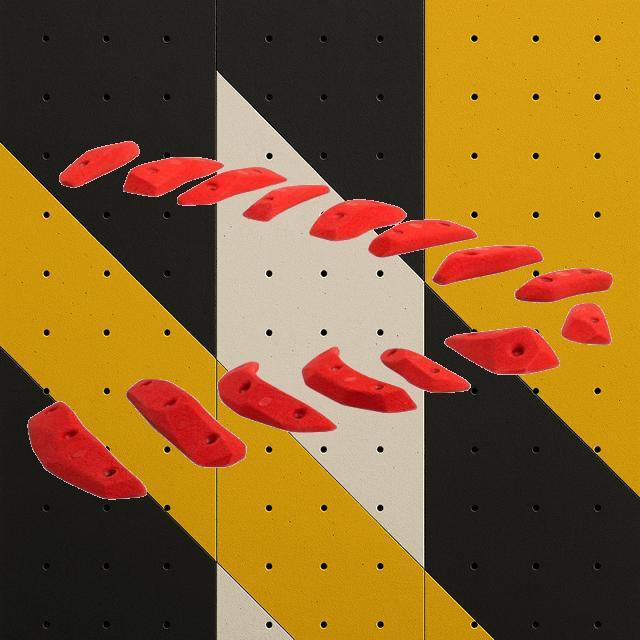Crimp: (26, 400, 146, 500), (126, 377, 247, 468), (216, 360, 336, 432), (301, 345, 417, 413), (444, 326, 560, 374), (431, 244, 543, 286), (367, 218, 477, 258), (177, 165, 287, 205), (379, 346, 469, 394), (308, 198, 406, 242), (122, 156, 224, 197), (58, 139, 138, 187), (514, 266, 612, 302), (242, 182, 330, 222), (560, 302, 612, 344)
